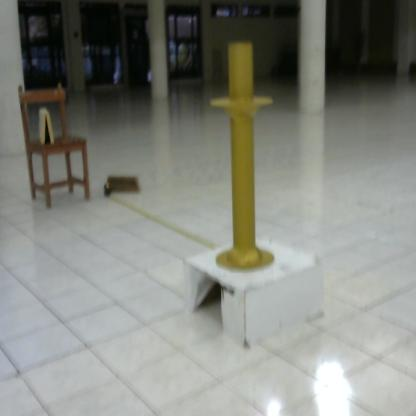pole: (208, 37, 285, 275)
